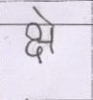e_matra: (33, 6, 53, 23)
